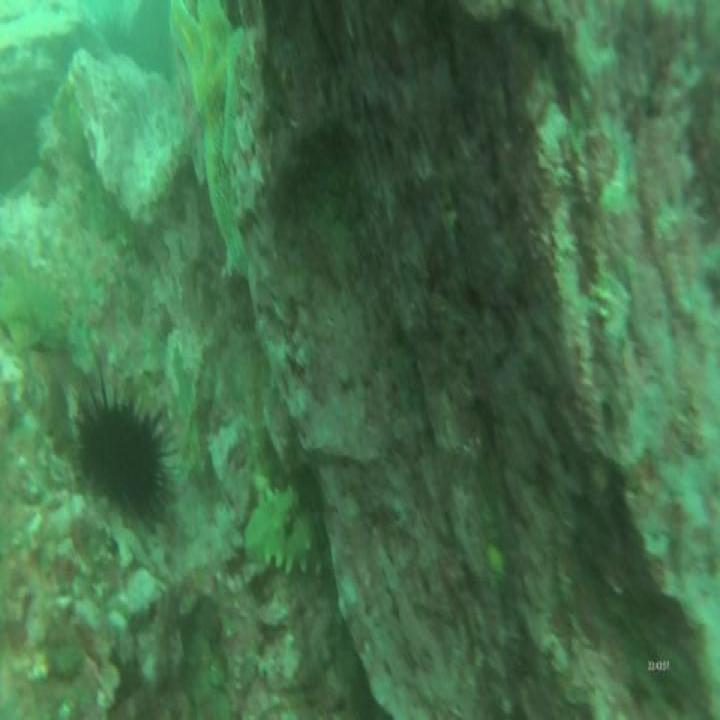echinus: (69, 369, 176, 538)
holothurian: (246, 484, 330, 590)
starfish: (165, 2, 254, 276)
